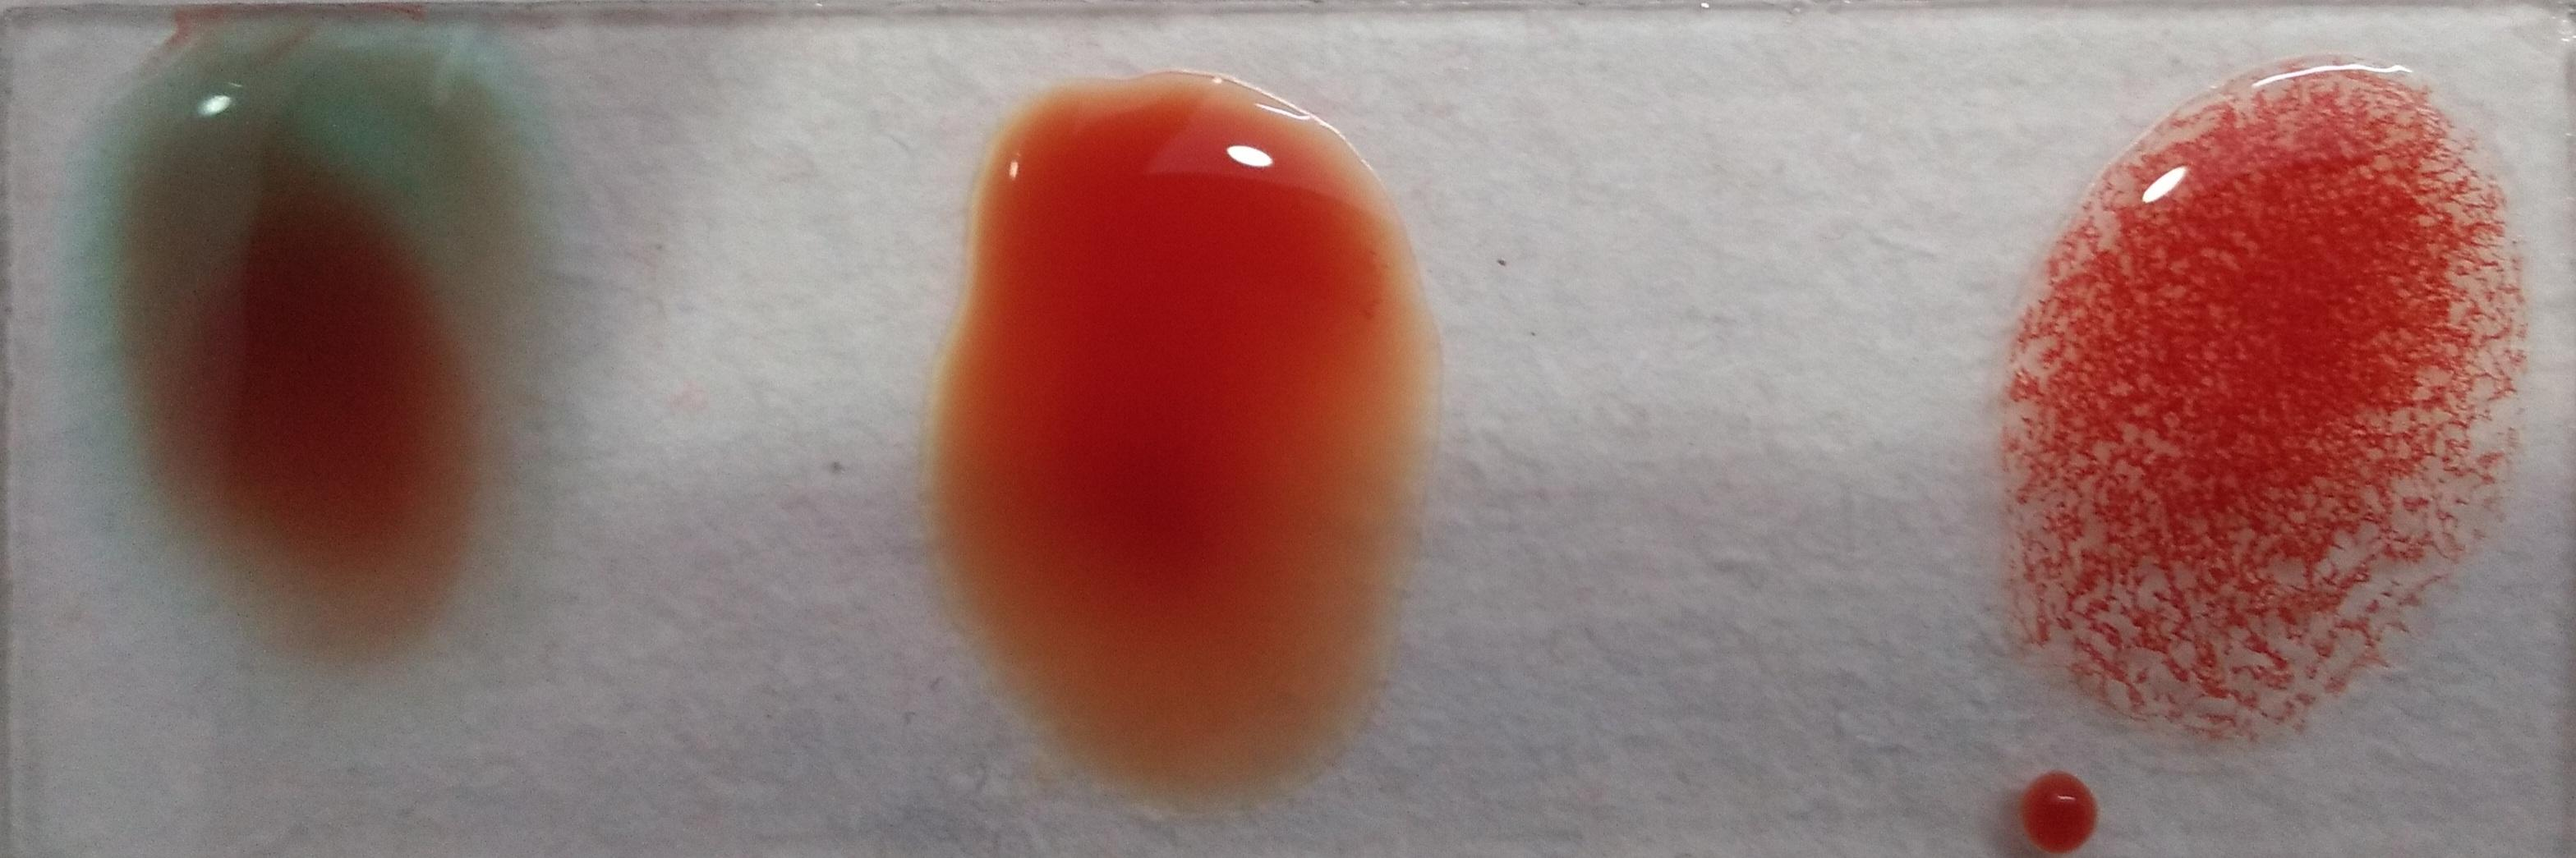D: (2019, 48, 2520, 715)
